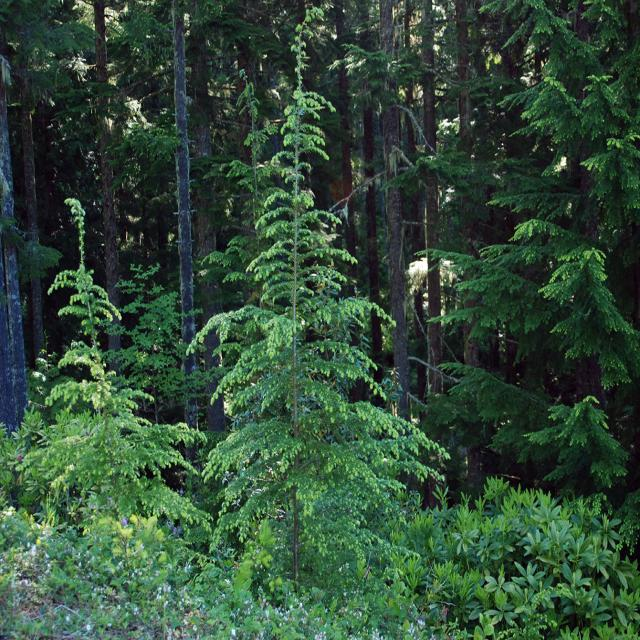Tsuga heterophylla: (214, 12, 444, 617), (18, 193, 213, 556)
